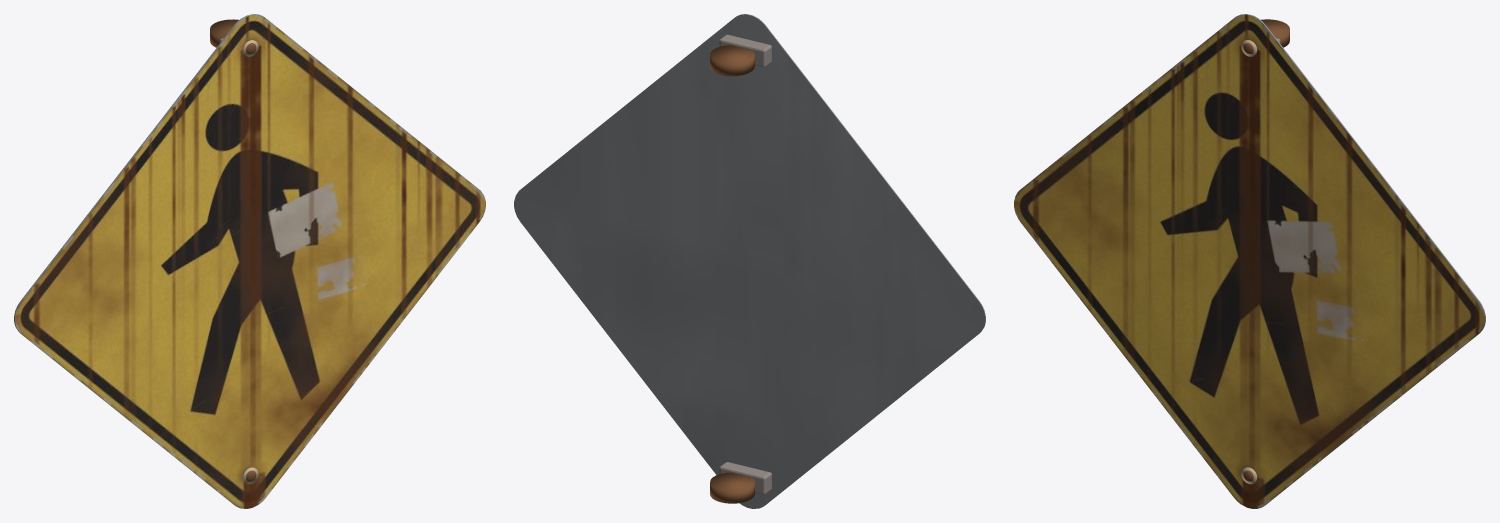
Rendered from pedestrian-v1-rusty.glb.
The picture shows the model from 3 angles, left to right: view 1: azimuth 30°, elevation 25°; view 2: azimuth 150°, elevation 25°; view 3: azimuth 330°, elevation 25°; orthographic projection.
Visible parts, largest first — view 1: pedestrian-v1-rusty; view 2: pedestrian-v1-rusty; view 3: pedestrian-v1-rusty.
Boxes of the visible parts, bbox=[...] form: pedestrian-v1-rusty: bbox=[14, 14, 485, 508]; pedestrian-v1-rusty: bbox=[514, 14, 985, 508]; pedestrian-v1-rusty: bbox=[1014, 14, 1485, 508].
Bounding box in the file's own units: 0.762 × 0.762 × 0.0871.
1 material, 1 textured.
